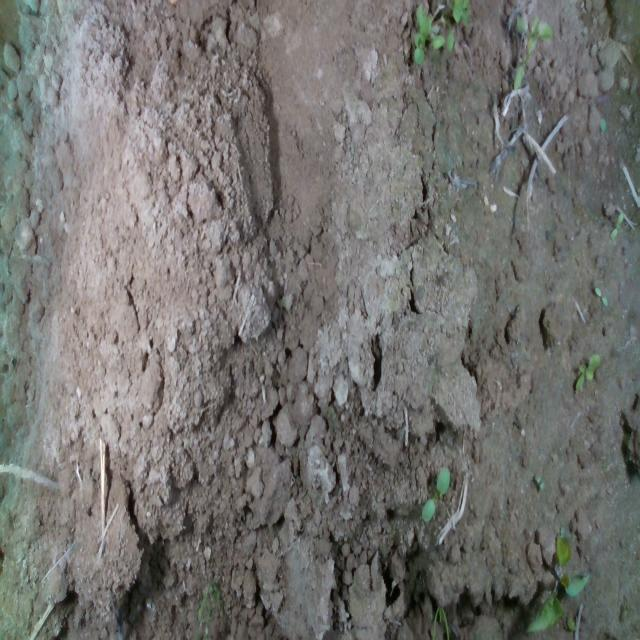weed: (420, 466, 450, 524), (574, 352, 600, 391), (610, 211, 625, 241), (594, 286, 608, 308)
